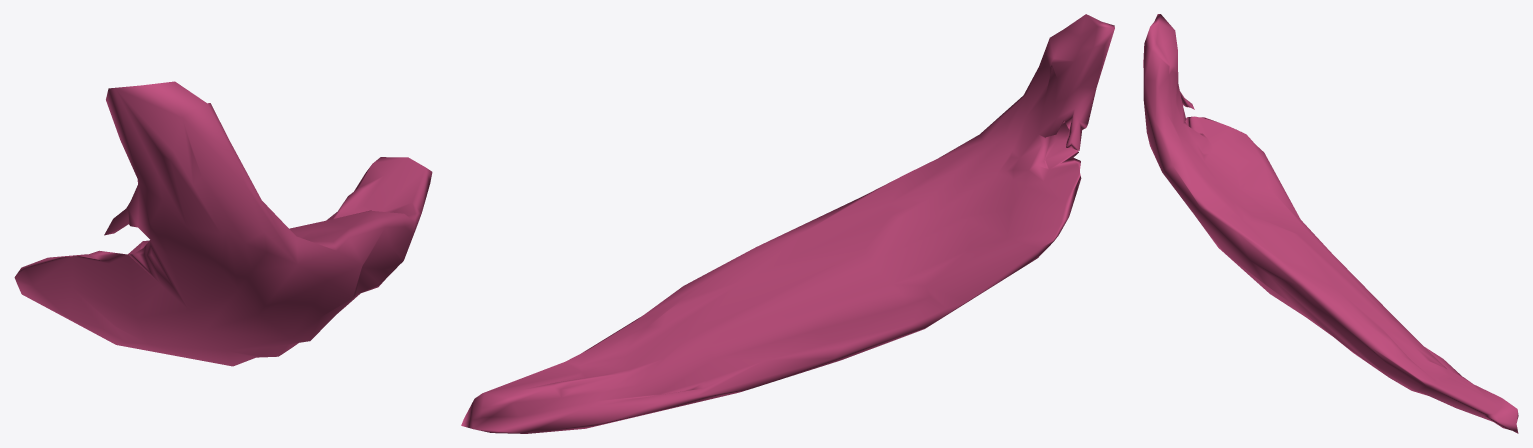
3 renders of one model, left to right at view 1: azimuth 30°, elevation 25°; view 2: azimuth 150°, elevation 25°; view 3: azimuth 270°, elevation 25°, orthographic. The views are drawn at different scales.
Visible parts, largest first — view 1: 左侧拇短展肌; view 2: 左侧拇短展肌; view 3: 左侧拇短展肌.
Boxes of the visible parts, x1,y1,x2,y2 form: 左侧拇短展肌: (14,81,432,366); 左侧拇短展肌: (461,14,1114,433); 左侧拇短展肌: (1143,14,1518,433).
Size of the model in its own units: 0.0599 by 0.0451 by 0.0582.
